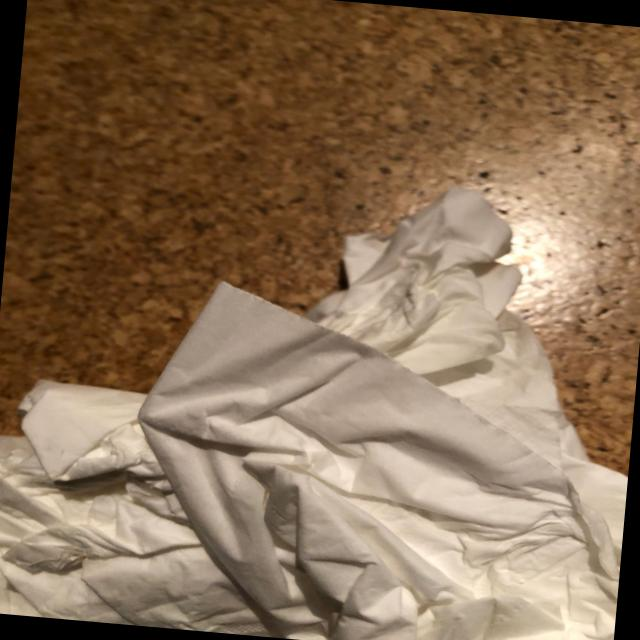organic waste: (116, 271, 640, 640), (272, 168, 640, 559)
